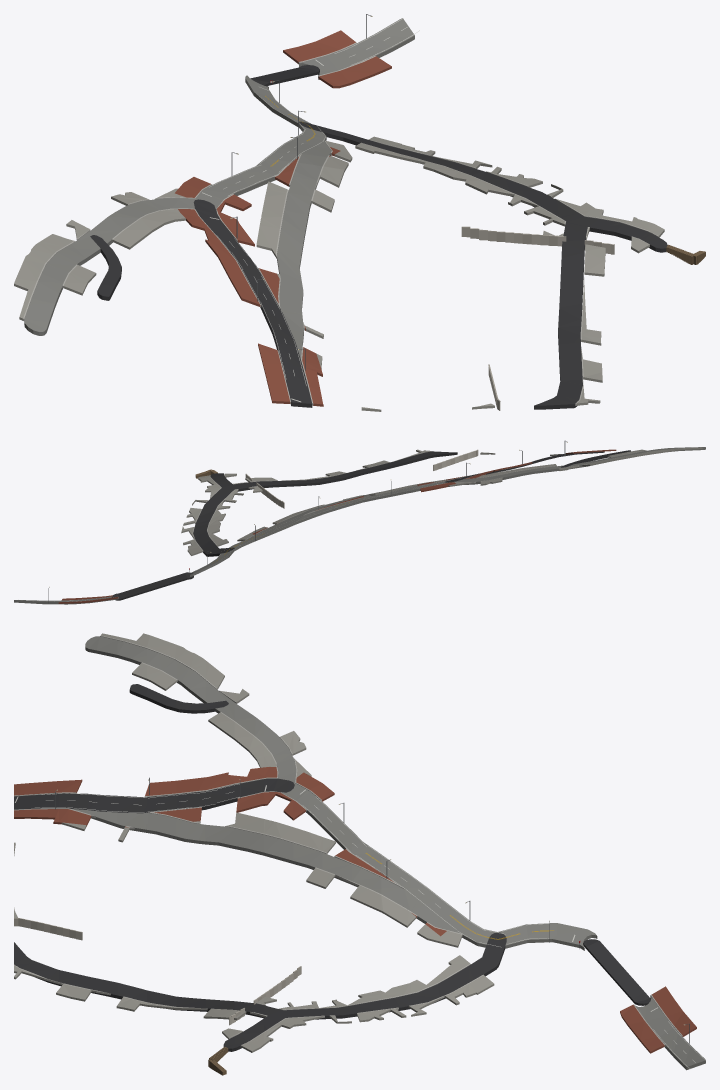
The picture shows the model from 3 angles, top to bottom: view 1: azimuth 30°, elevation 25°; view 2: azimuth 150°, elevation 25°; view 3: azimuth 270°, elevation 25°; orthographic projection. The views are drawn at different scales.
Size of the model in its own units: 243 by 57.78 by 236.
